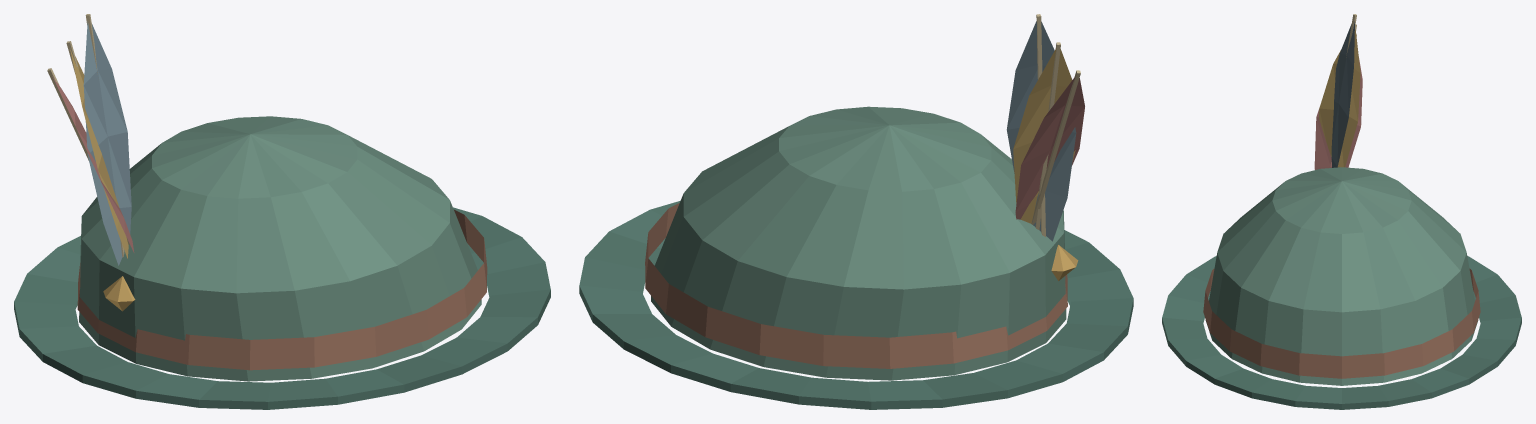
Rendered from hat_feather.glb.
3 views of the same model, side by side, from view 1: azimuth 30°, elevation 25°; view 2: azimuth 150°, elevation 25°; view 3: azimuth 270°, elevation 25° (orthographic). The views are drawn at different scales.
Parts seen in each view (by area): view 1: hat_feather; view 2: hat_feather; view 3: hat_feather.
Boxes of the visible parts, x1,y1,x2,y2 form: hat_feather: (14, 14, 550, 409); hat_feather: (579, 14, 1133, 409); hat_feather: (1162, 14, 1521, 409).
Size of the model in its own units: 0.62 by 0.4095 by 0.5456.
